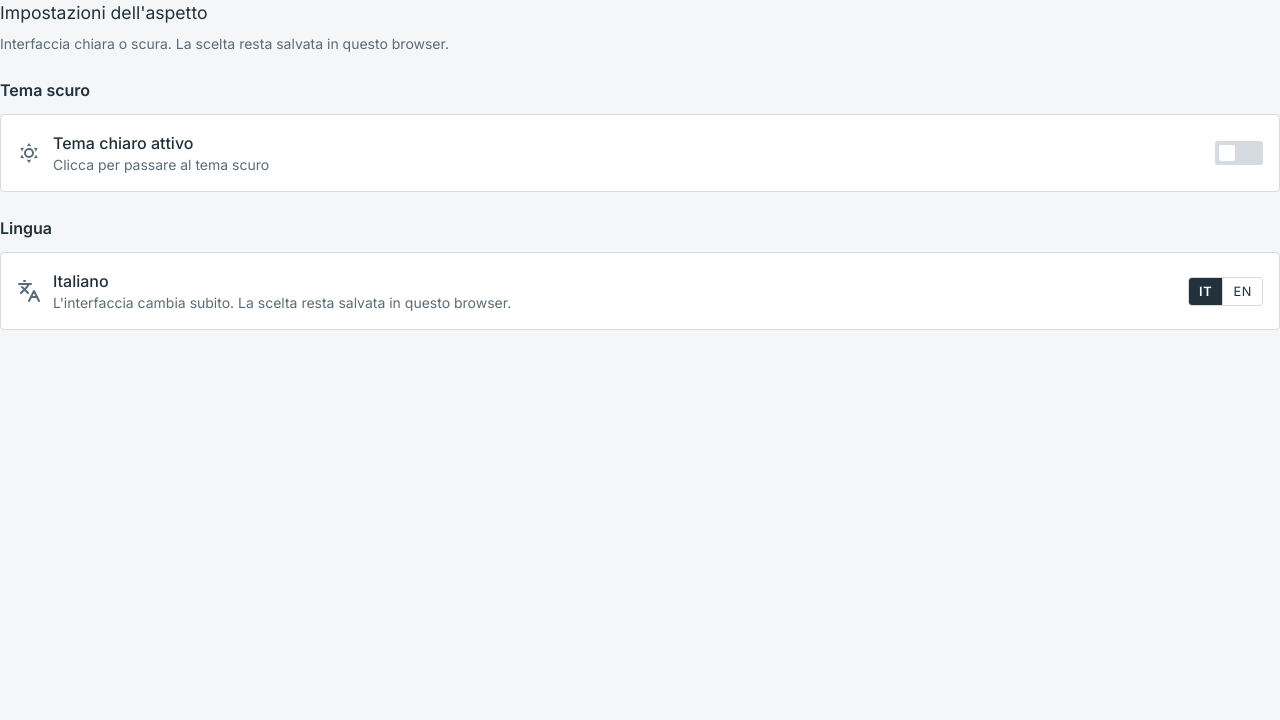
Test case: AppearanceSettingsTab › the switch says which of the two is on, and changes it
Click the switch at (123, 143), box [0,114,1279,192]
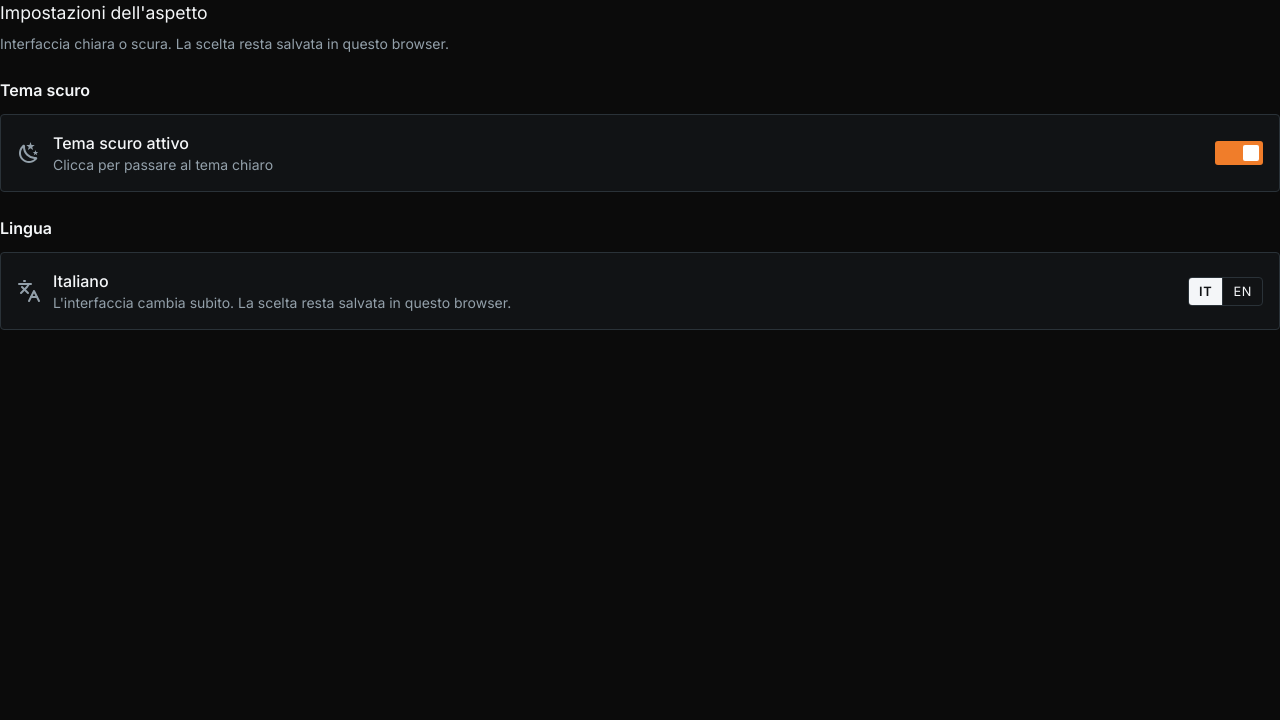
Expected: the switch shows "Tema scuro attivo"
Expected: the switch shows "Clicca per passare al tema chiaro"
Click the switch at (121, 143), box [0,114,1279,192]
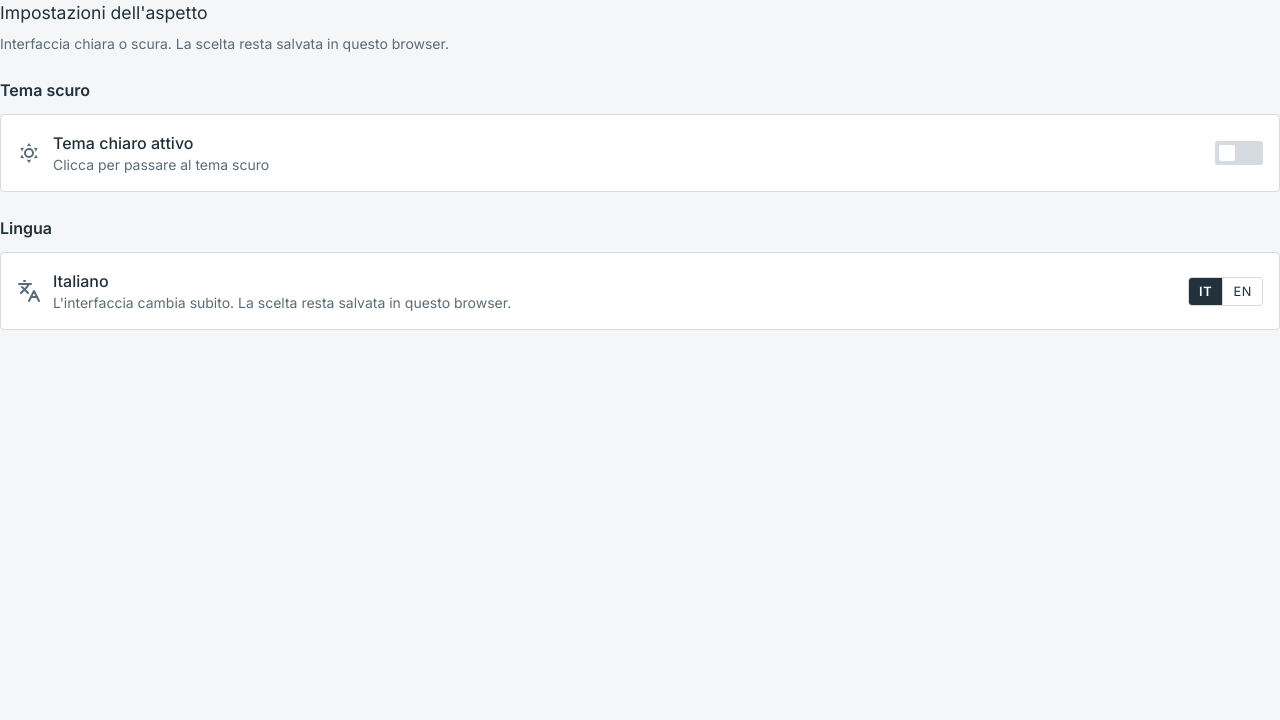
Expected: the switch is not checked, [0,114,1279,192]
